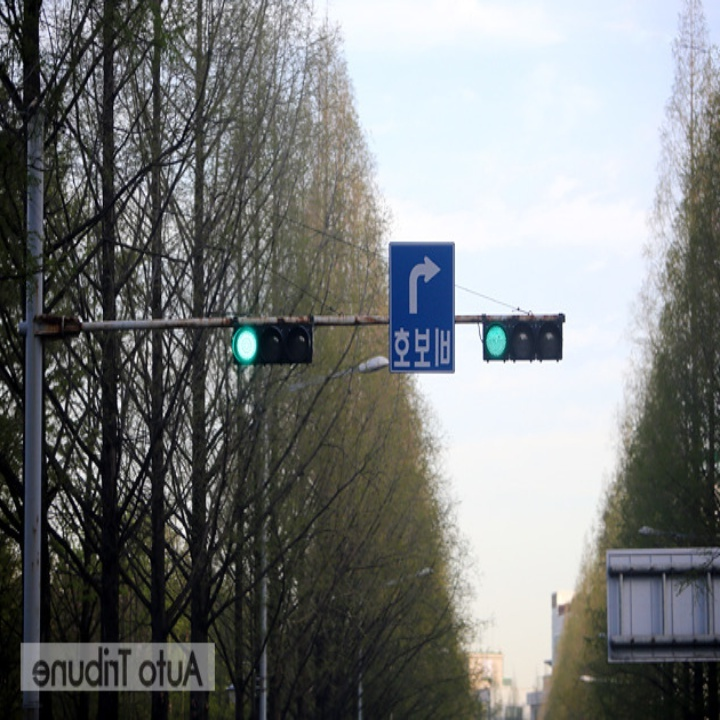right: (400, 251, 446, 319)
